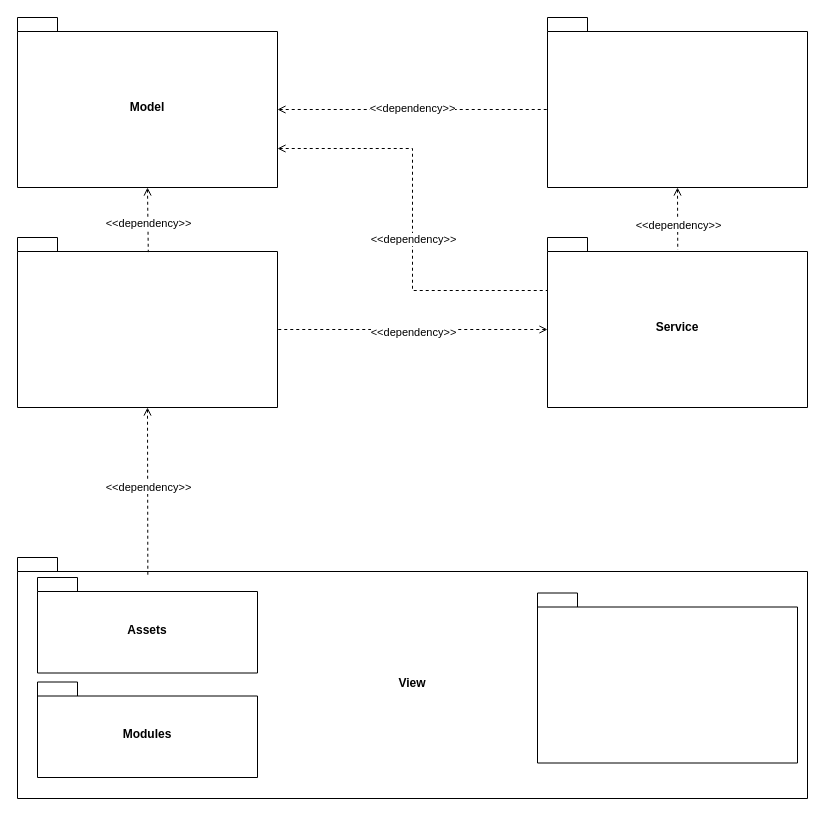
Some shapes in this 825 by 816 pixel diagram are drawn without their labels. Here are the shapes that lost their labels. From the top down, the box of each, then its label:
(546, 16, 808, 188): Repository
(16, 236, 278, 408): Resource
(536, 592, 798, 763): App
